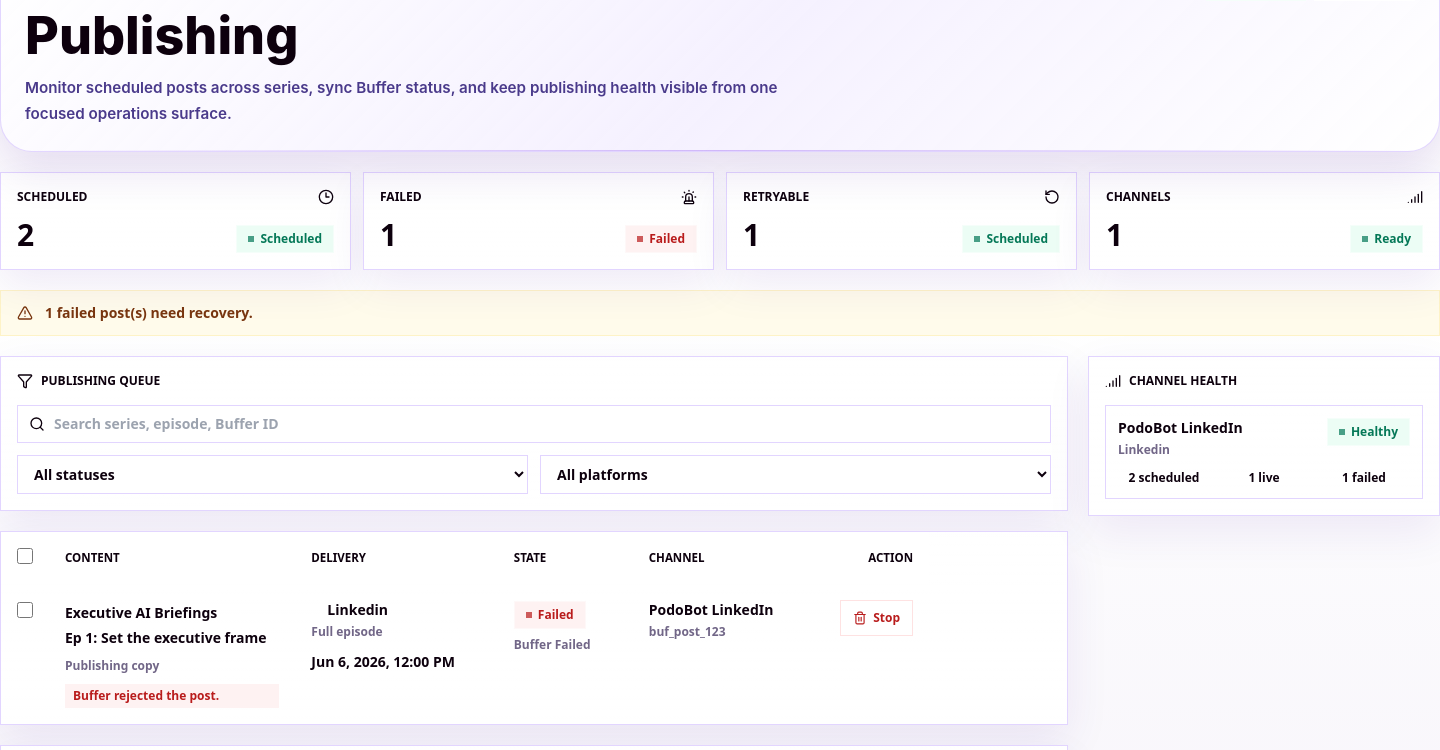
Test: PublishingOperationsPage › stops a queued publishing row and removes it from the queue
Expected: the link "Executive AI Briefings" is shown, left=65, top=603, right=217, bottom=622
Click the button with aria-label "stop publish" at (877, 618), box left=840, top=600, right=913, bottom=636
(page scrolled)
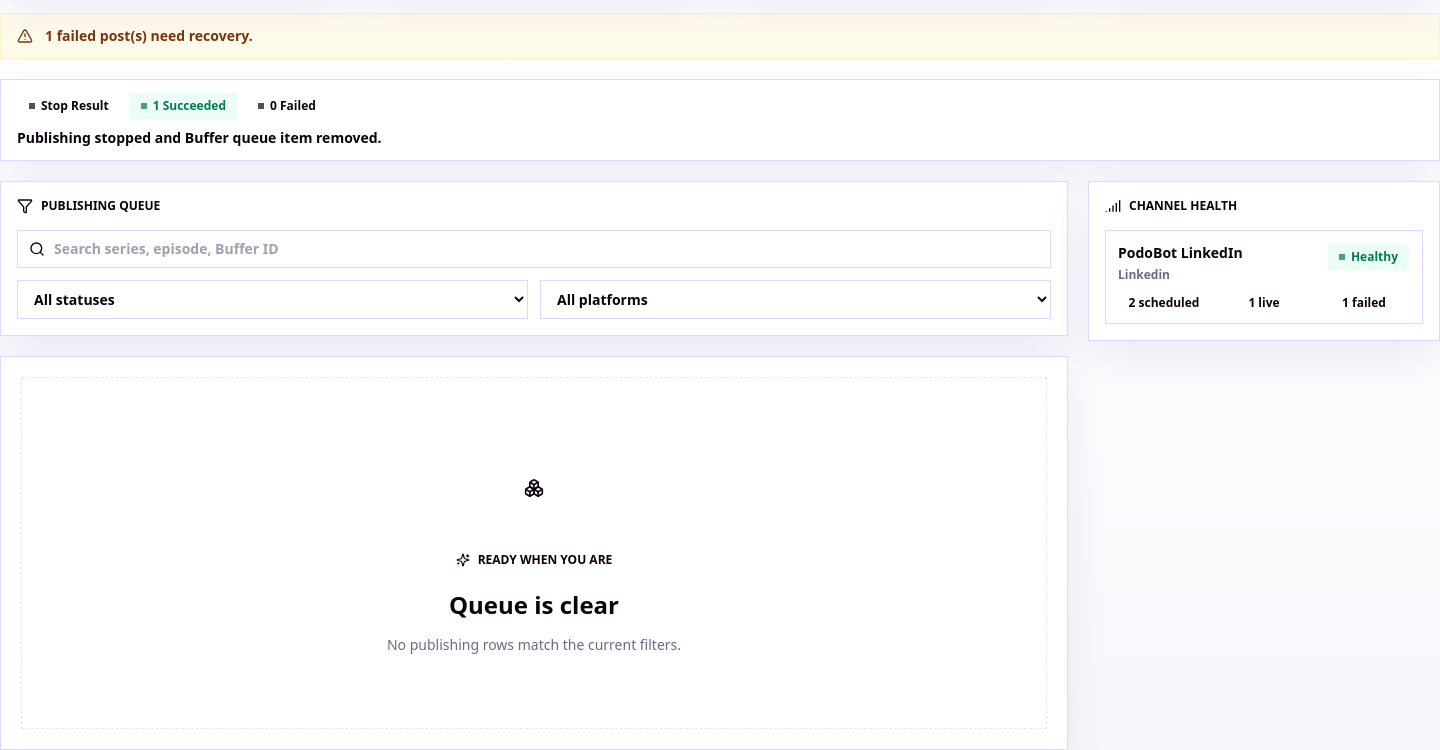
Now the text "Publishing stopped and Buffer queue item removed." is shown, box left=17, top=128, right=382, bottom=147
Now the heading "Queue is clear" is shown, box left=449, top=588, right=619, bottom=621
